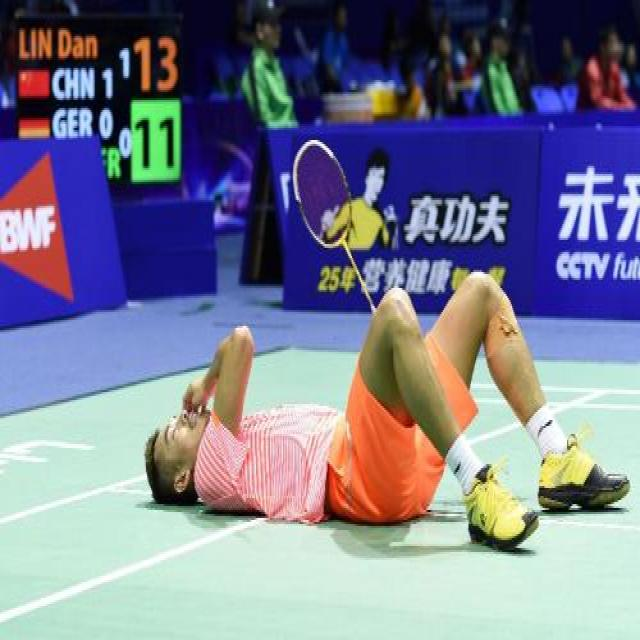10-: (133, 0, 639, 560)
down: (138, 256, 631, 558)
